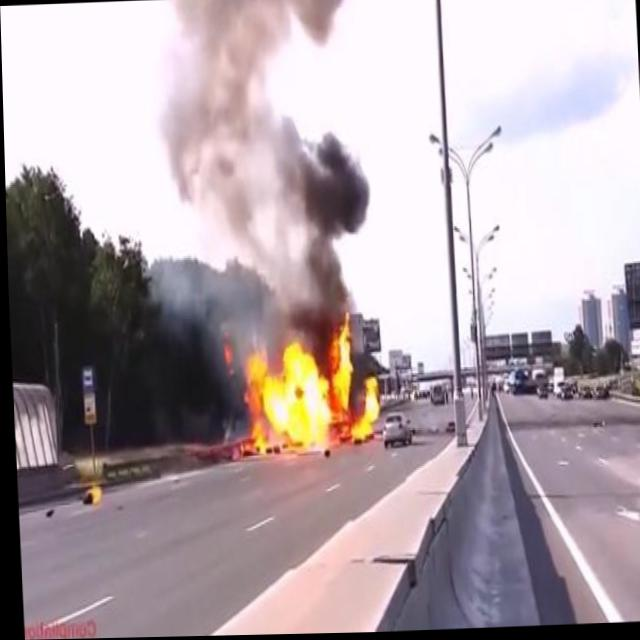fire: (237, 298, 381, 457)
